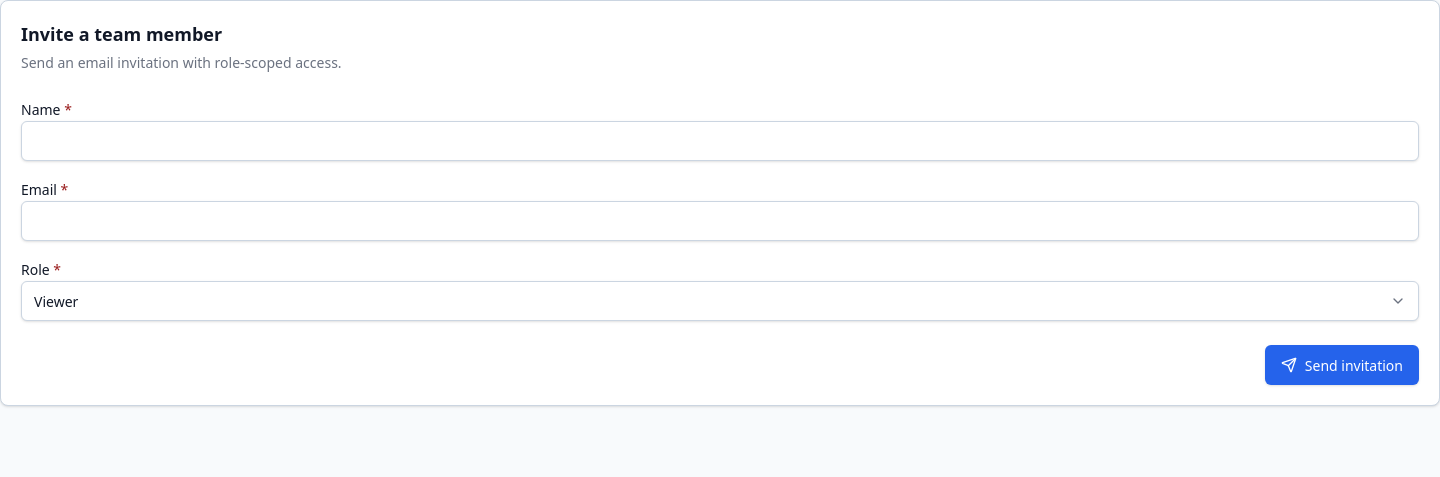
Test: InviteForm › invites a user with name, email and default viewer role
Type "Alice Smith" into the field labelled "Name *" at (720, 141), box top-left (21, 121), bottom-right (1419, 161)
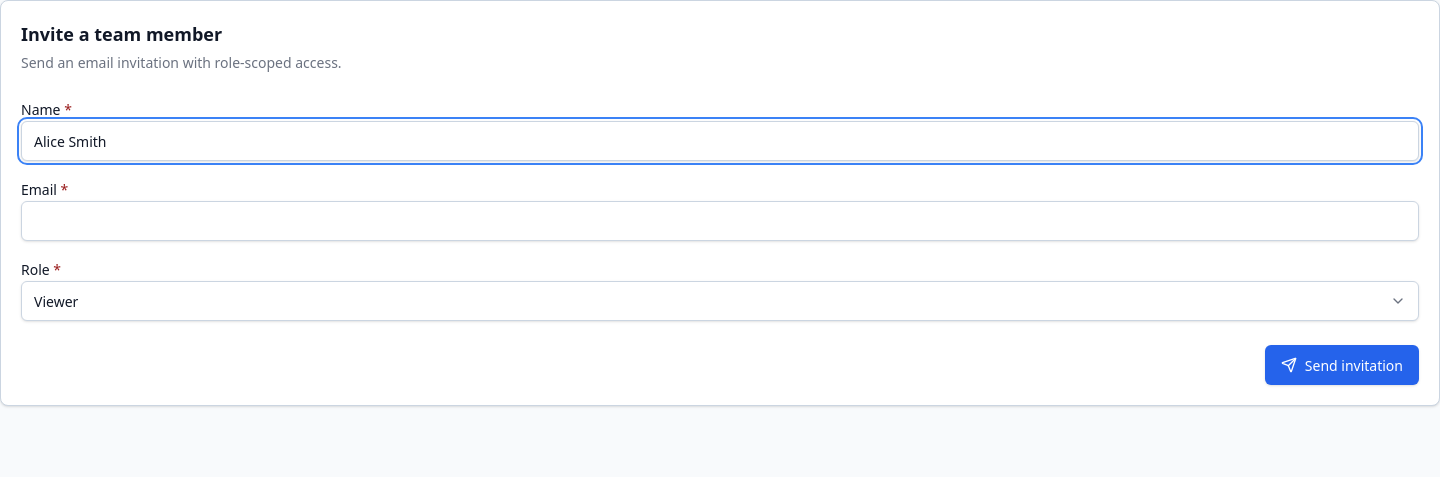
Type "alice@acme.com" into the field labelled "Email *" at (720, 221), box top-left (21, 201), bottom-right (1419, 241)
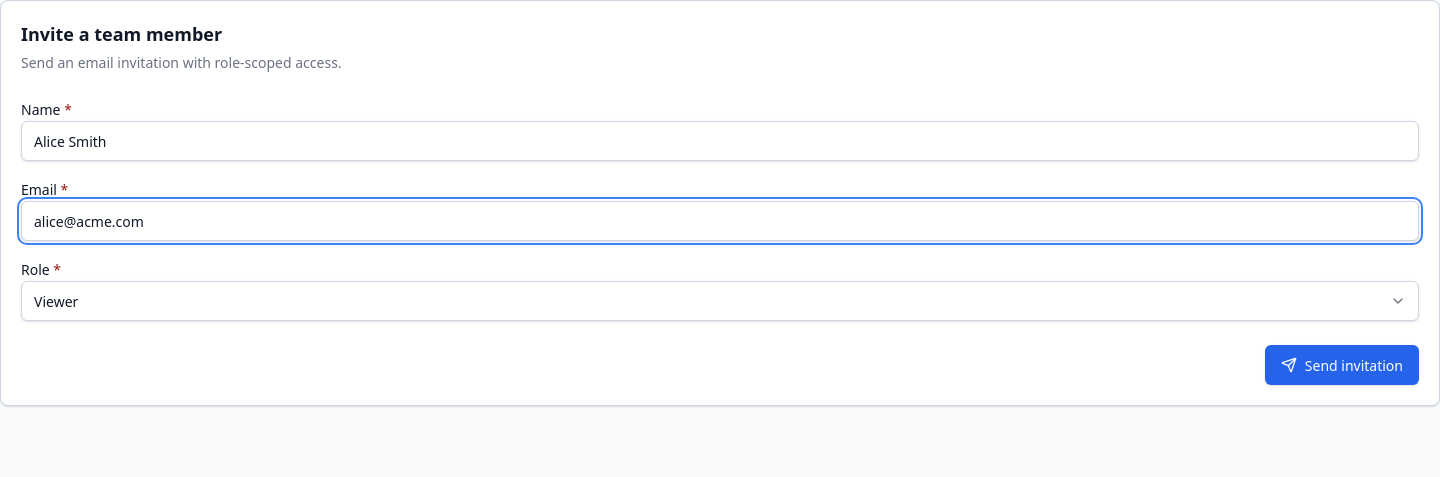
Click the button "Send invitation" at (1342, 365), box top-left (1265, 345), bottom-right (1419, 385)
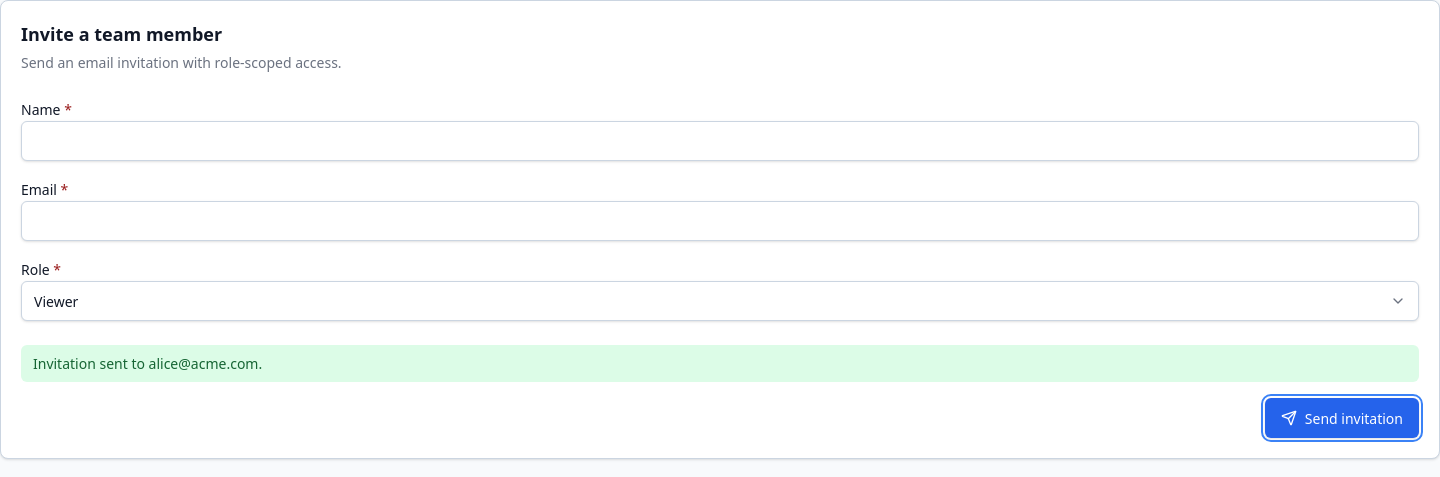
Now the text "Invitation sent to alice@acme.com." is shown, box top-left (21, 345), bottom-right (1419, 382)
